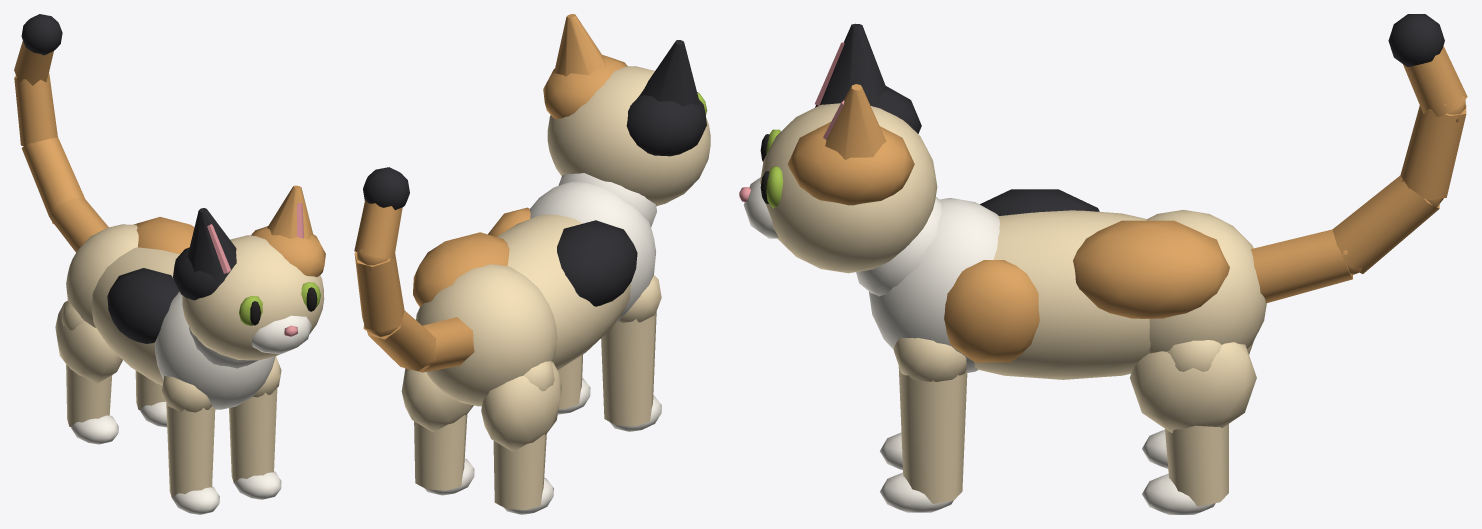
File: pet_cat_calico.glb
3 renders of one model, left to right at view 1: azimuth 30°, elevation 25°; view 2: azimuth 150°, elevation 25°; view 3: azimuth 270°, elevation 25°, orthographic. The views are drawn at different scales.
Parts seen in each view (by area): view 1: head, body, tail, leg_br, leg_fr, leg_fl, leg_bl; view 2: body, head, tail, leg_br, leg_fr, leg_bl, leg_fl; view 3: body, head, tail, leg_bl, leg_fl.
Part boxes in pixels (x1,y1,x2,y2): head: (173,185,325,368); body: (66,217,275,409); tail: (14,14,108,252); leg_br: (55,300,122,444); leg_fr: (162,376,219,514); leg_fl: (229,356,281,499); leg_bl: (135,370,167,427); body: (413,182,656,406); head: (543,14,710,227); tail: (354,167,474,372); leg_br: (481,361,561,514); leg_fr: (601,275,661,431); leg_bl: (401,368,474,495); leg_fl: (557,354,590,414); body: (869,189,1266,379); head: (739,23,941,296); tail: (1251,14,1467,303); leg_bl: (1130,340,1256,514); leg_fl: (880,338,967,512).
Size of the model in its own units: 0.1478 by 0.37 by 0.5151.
